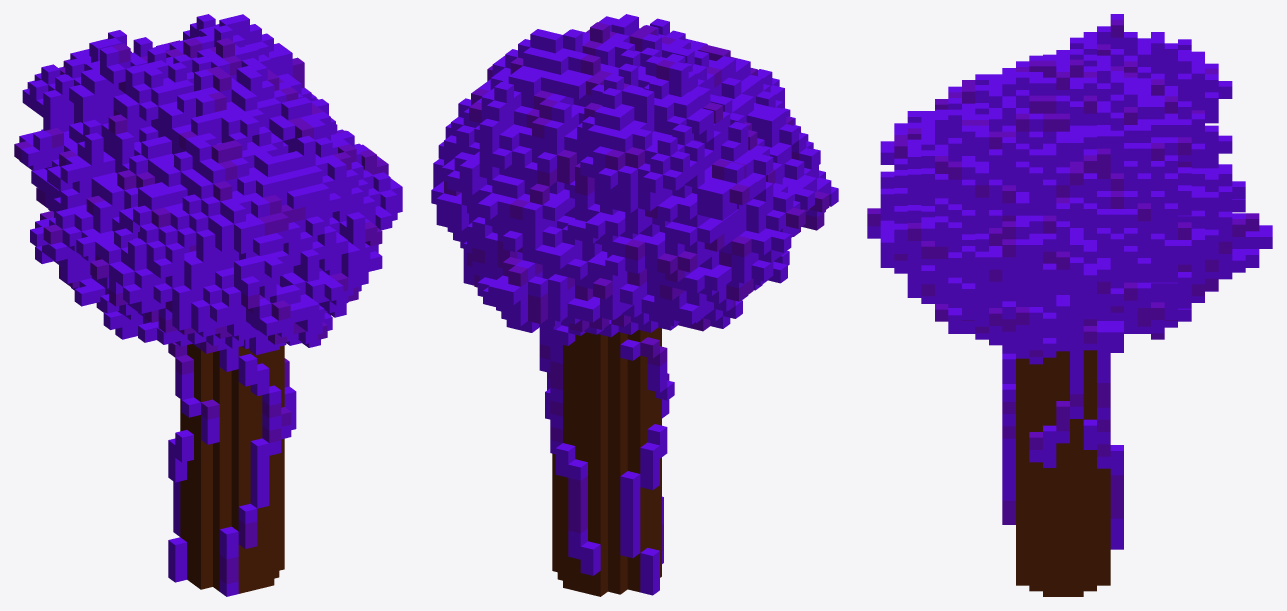
Rendered from Arvore roxa.obj.
3 renders of one model, left to right at view 1: azimuth 30°, elevation 25°; view 2: azimuth 150°, elevation 25°; view 3: azimuth 270°, elevation 25°, orthographic. The views are drawn at different scales.
Size of the model in its own units: 2.7 by 4.2 by 3.
Materials: 1 (1 with a texture image).
